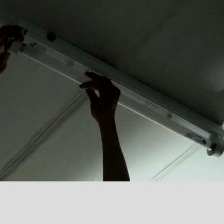light_bulb: (9, 39, 221, 155)
